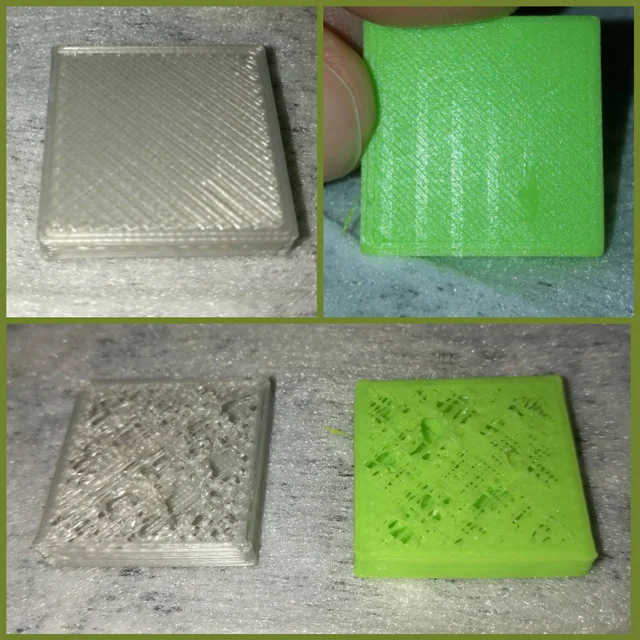Spaghetti: (329, 377, 597, 576), (49, 376, 274, 563)
